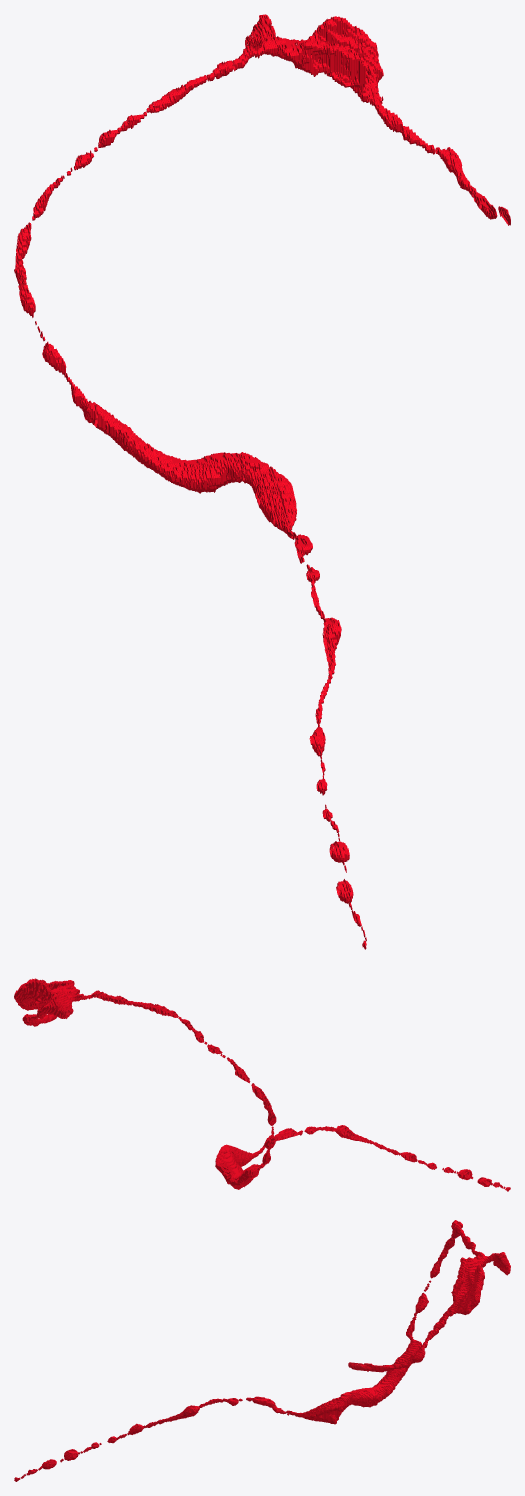
Rendered from SVV_SMDVR.gltf.
3 views of the same model, one above another, from view 1: azimuth 30°, elevation 25°; view 2: azimuth 150°, elevation 25°; view 3: azimuth 270°, elevation 25° (orthographic). The views are drawn at different scales.
Parts seen in each view (by area): view 1: SMDVR; view 2: SMDVR; view 3: SMDVR.
Part boxes in pixels (<box>): SMDVR: <box>14,14,510,949</box>; SMDVR: <box>14,978,510,1191</box>; SMDVR: <box>14,1220,510,1481</box>.
Bounding box in the file's own units: 136131 × 160892 × 227291.
